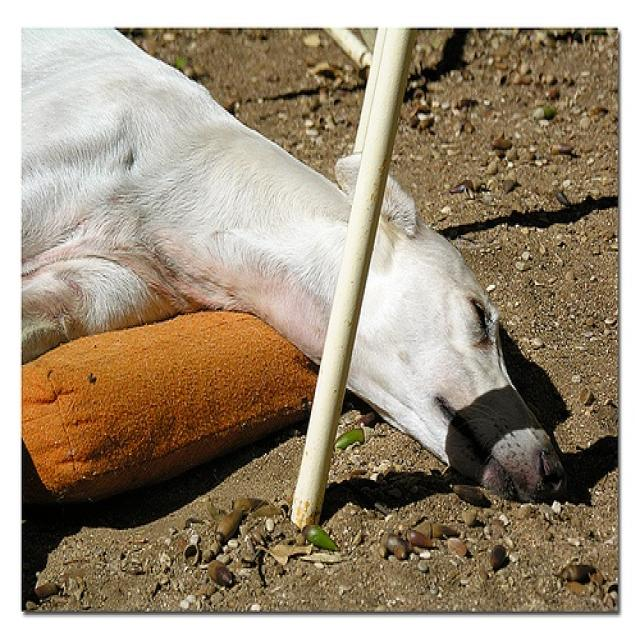dog: (23, 26, 568, 506)
